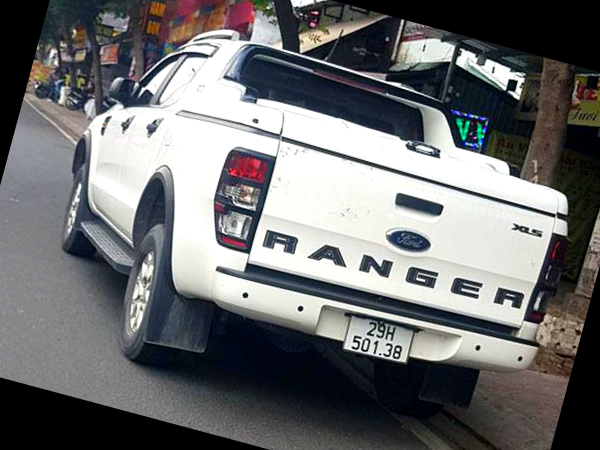lisence: (341, 315, 414, 367)
